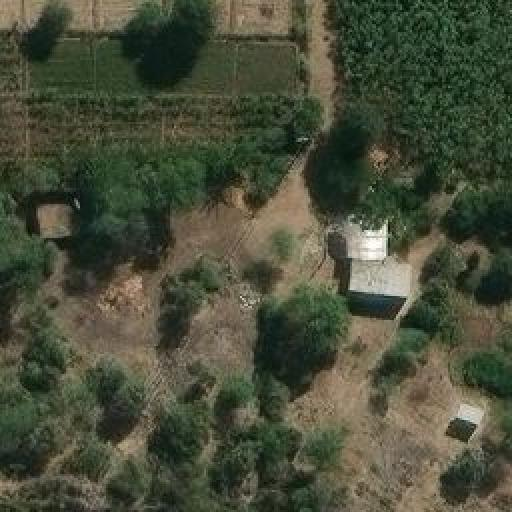manzanas: (347, 200, 416, 308), (451, 400, 492, 433)
